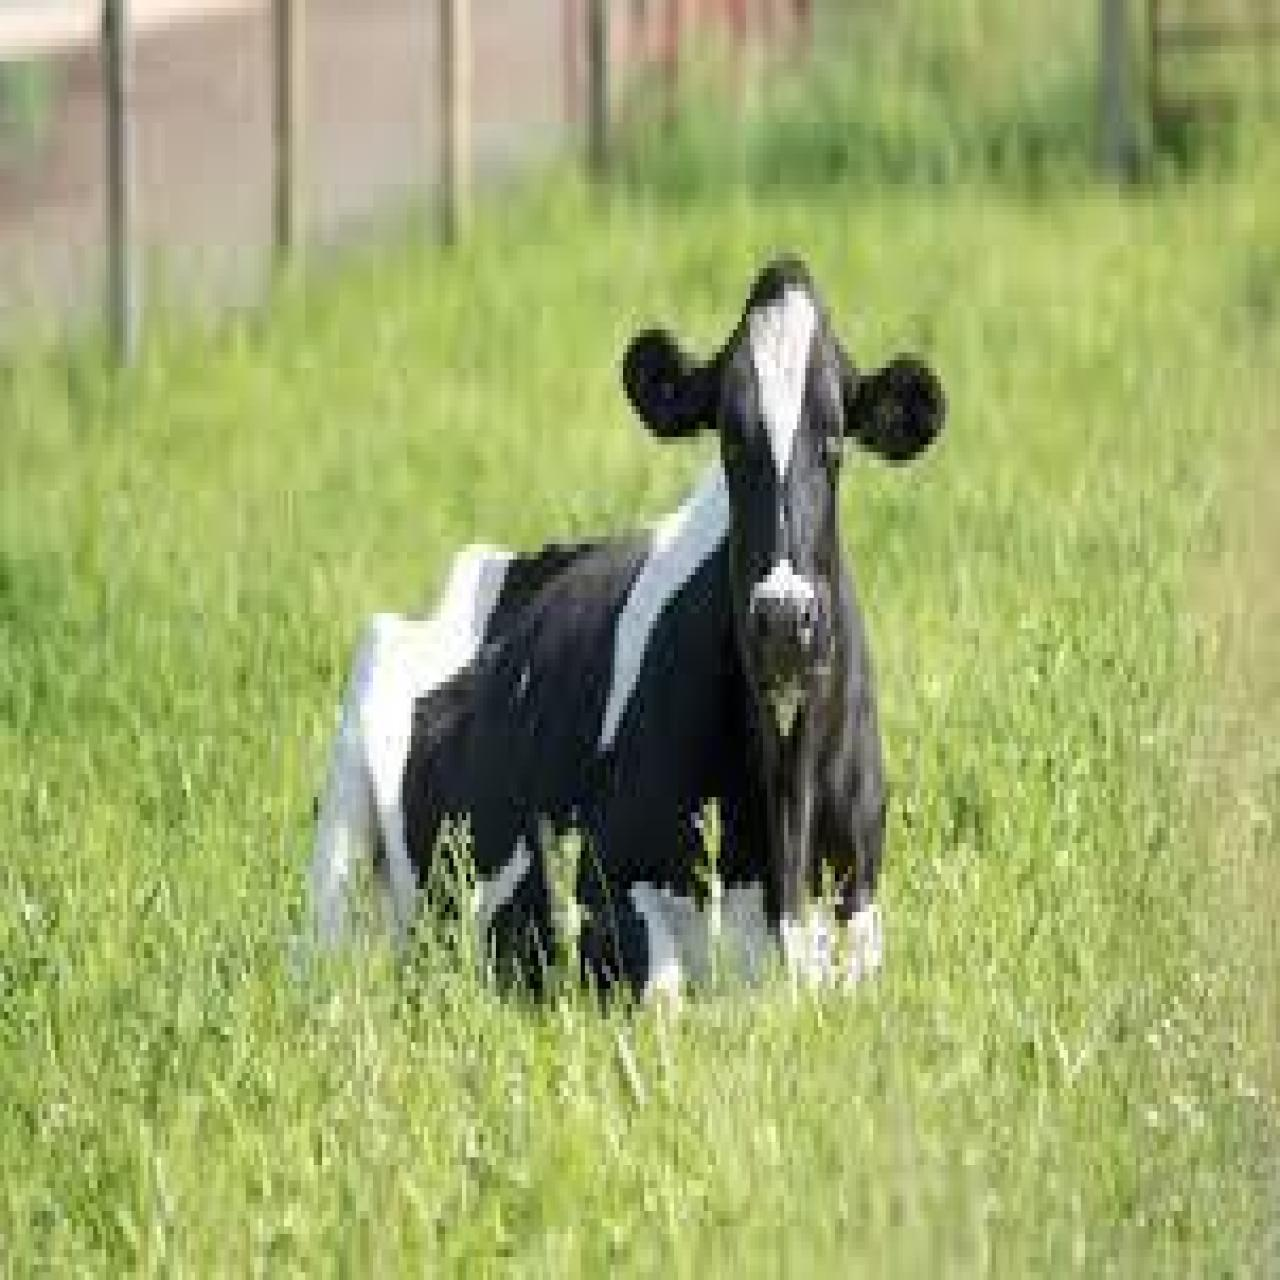cow: (312, 253, 947, 1020)
